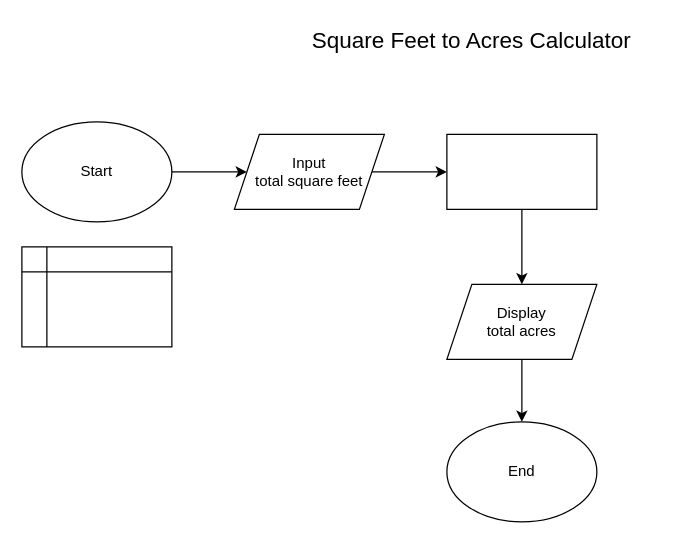
This 694x544 diagram has some shape labels left out. Each missing label, with the centre of its shape:
"Divide total square feet by square feet in one acre" belongs at [521,171].
"Square feet in acre = 43,560" belongs at [96,296].
